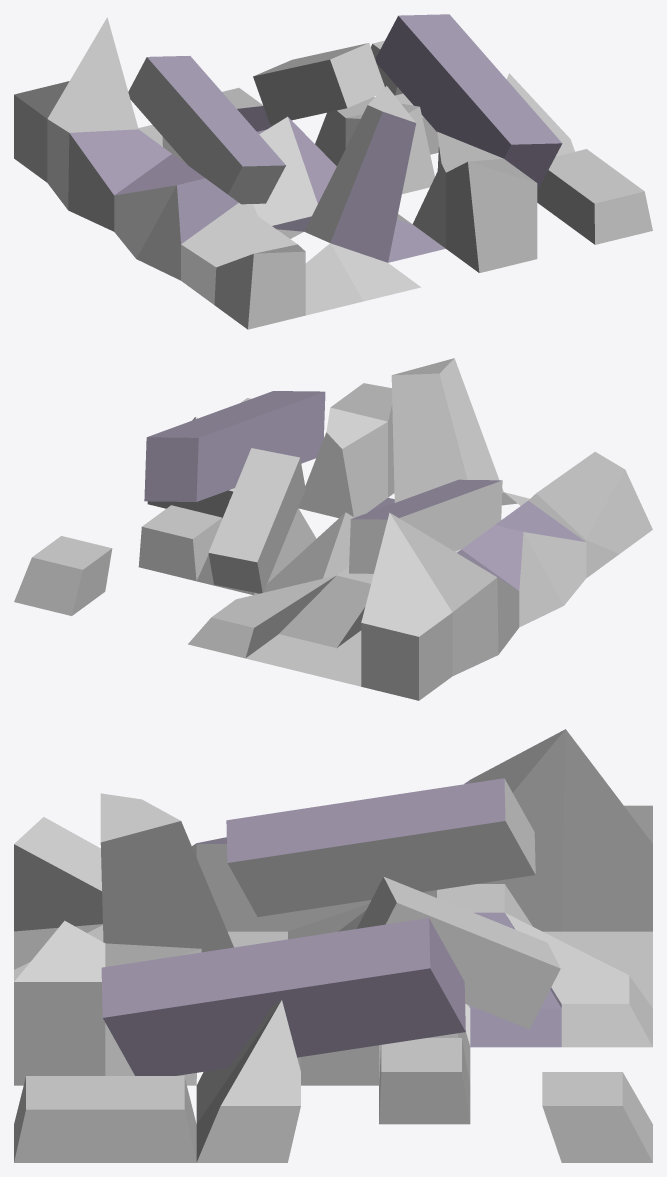
The model's file is Colapse_Debris.fbx.
3 views of the same model, one above another, from view 1: azimuth 30°, elevation 25°; view 2: azimuth 150°, elevation 25°; view 3: azimuth 270°, elevation 25° (orthographic). The views are drawn at different scales.
Visible parts, largest first — view 1: Plane; view 2: Plane; view 3: Plane.
Boxes of the visible parts, x1=… form: Plane: x1=14, y1=14, x2=652, y2=329; Plane: x1=14, y1=358, x2=652, y2=700; Plane: x1=14, y1=729, x2=652, y2=1162.
Bounding box in the file's own units: 143 × 50.35 × 138.
